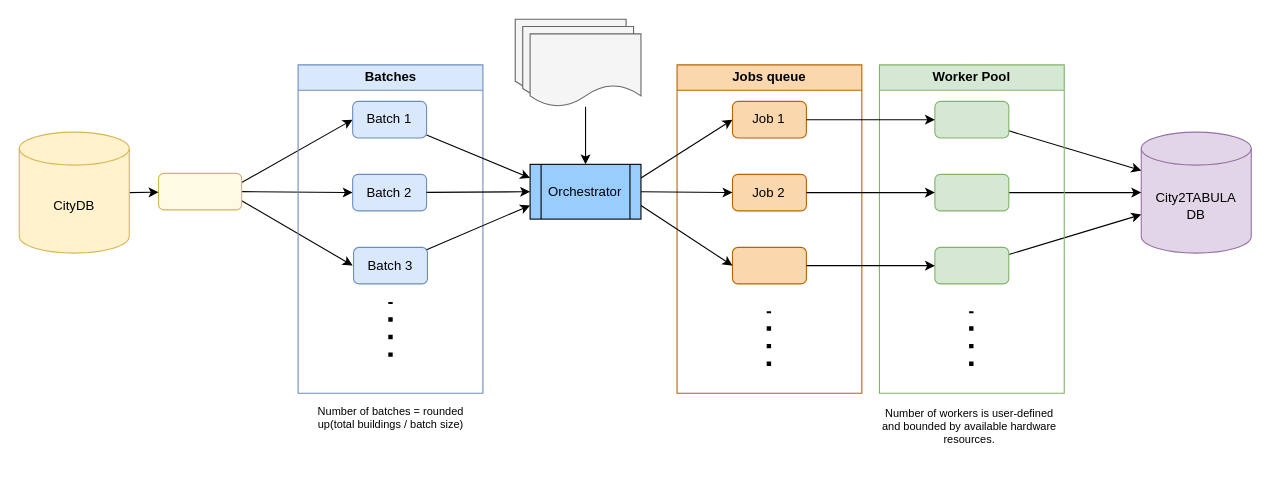
Image size: 1271x479. Some labels were removed from this diagram. Each missing label, with the centre of its shape:
Buidling IDs: [199,191]
Job 3: [768,265]
Parameterised SQL scripts: [585,70]
Worker 1: [971,119]
Worker 2: [971,192]
Worker 3: [971,265]
